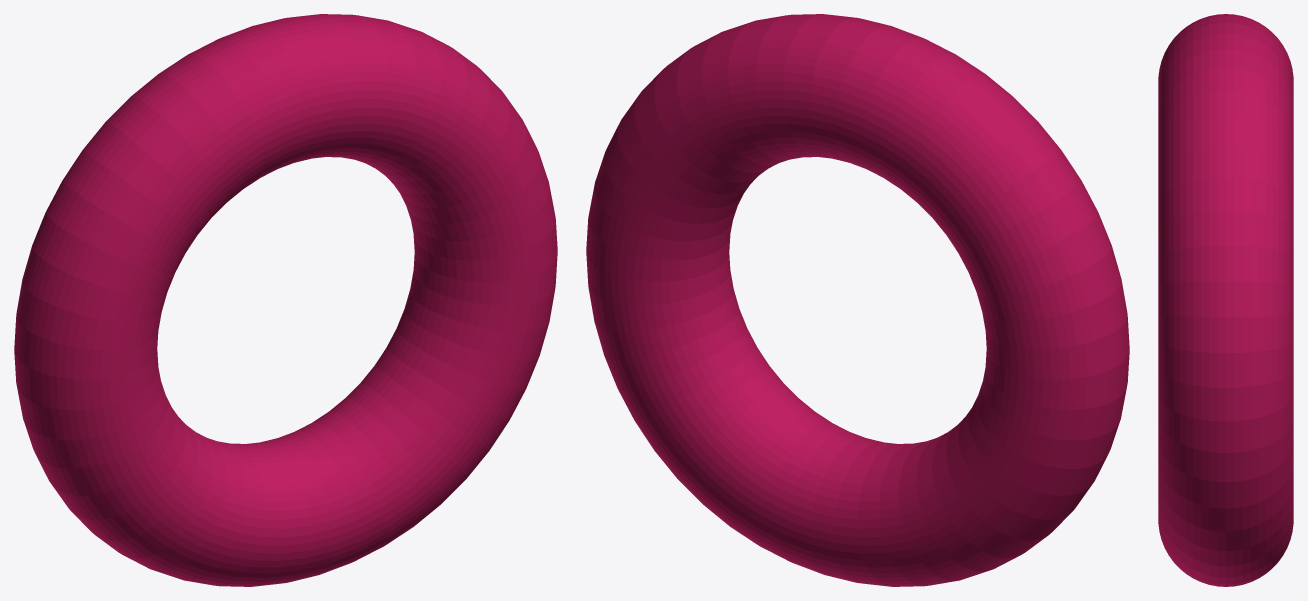
3 views of the same model, side by side, from view 1: azimuth 30°, elevation 25°; view 2: azimuth 150°, elevation 25°; view 3: azimuth 270°, elevation 25° (orthographic). The views are drawn at different scales.
Parts seen in each view (by area): view 1: world; view 2: world; view 3: world.
Boxes of the visible parts, x1=… form: world: x1=14, y1=14, x2=557, y2=586; world: x1=586, y1=14, x2=1129, y2=586; world: x1=1158, y1=14, x2=1293, y2=586.
Size of the model in its own units: 36.67 by 36.59 by 8.65.
